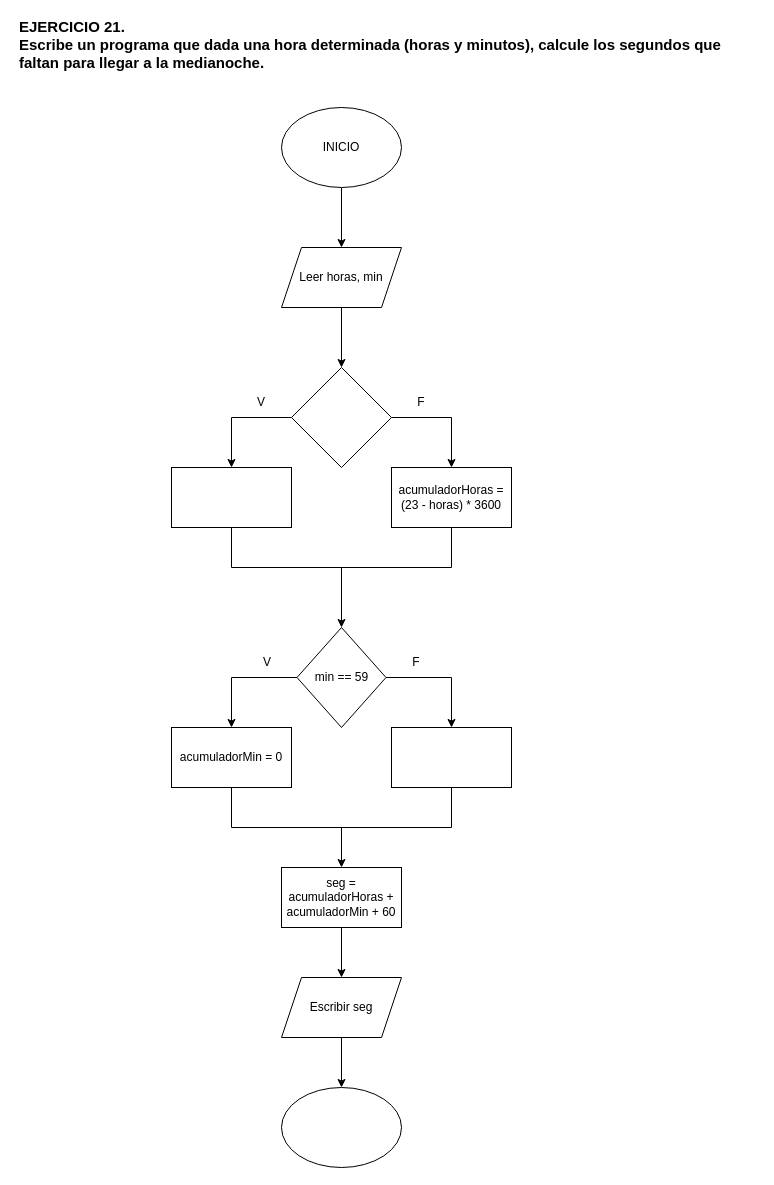
Image size: 774x1185. Some labels were removed from this diagram. Each missing label, with the box of its shape:
acumuladorHoras = 0: (170, 466, 292, 528)
acumuladorMin = (59 - min) * 60: (390, 726, 512, 788)
FIN: (280, 1086, 402, 1168)
horas == 23: (290, 366, 392, 468)
